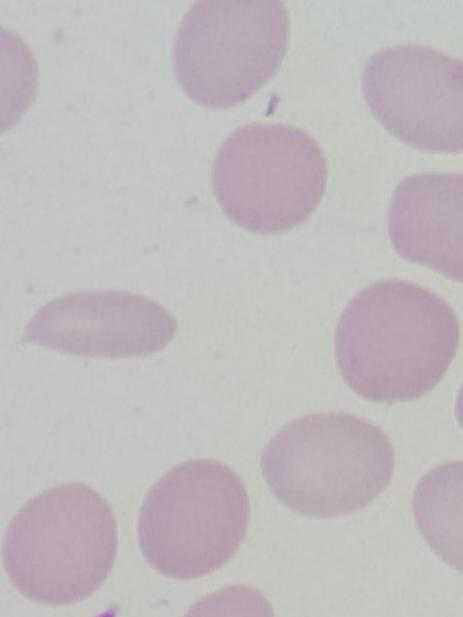Uninfected: (338, 274, 455, 406), (0, 484, 118, 603), (263, 414, 388, 522), (142, 457, 252, 579), (208, 121, 321, 236), (178, 1, 294, 105), (25, 289, 182, 362), (365, 42, 463, 151), (388, 169, 463, 277)
